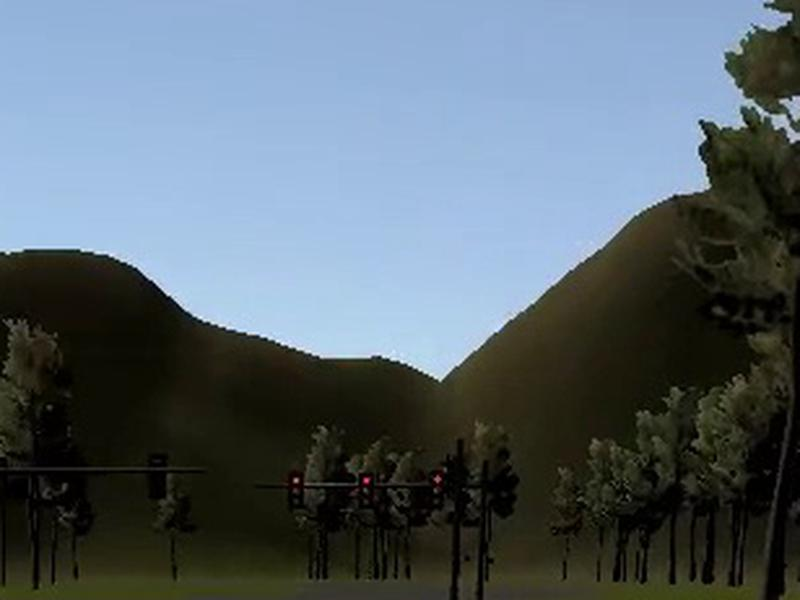Red: (289, 472, 304, 508), (430, 470, 443, 511), (357, 473, 372, 508)
